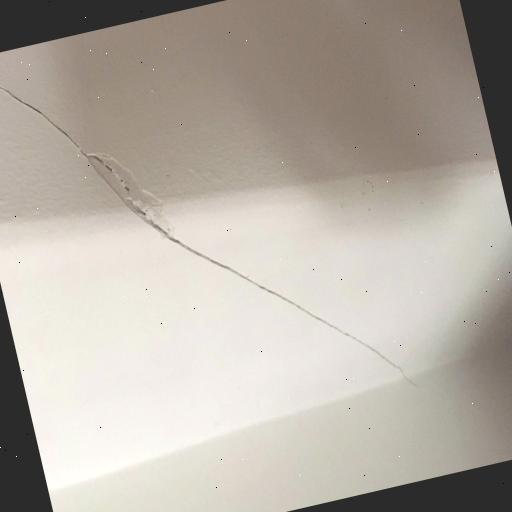spalling: (0, 77, 409, 375)
